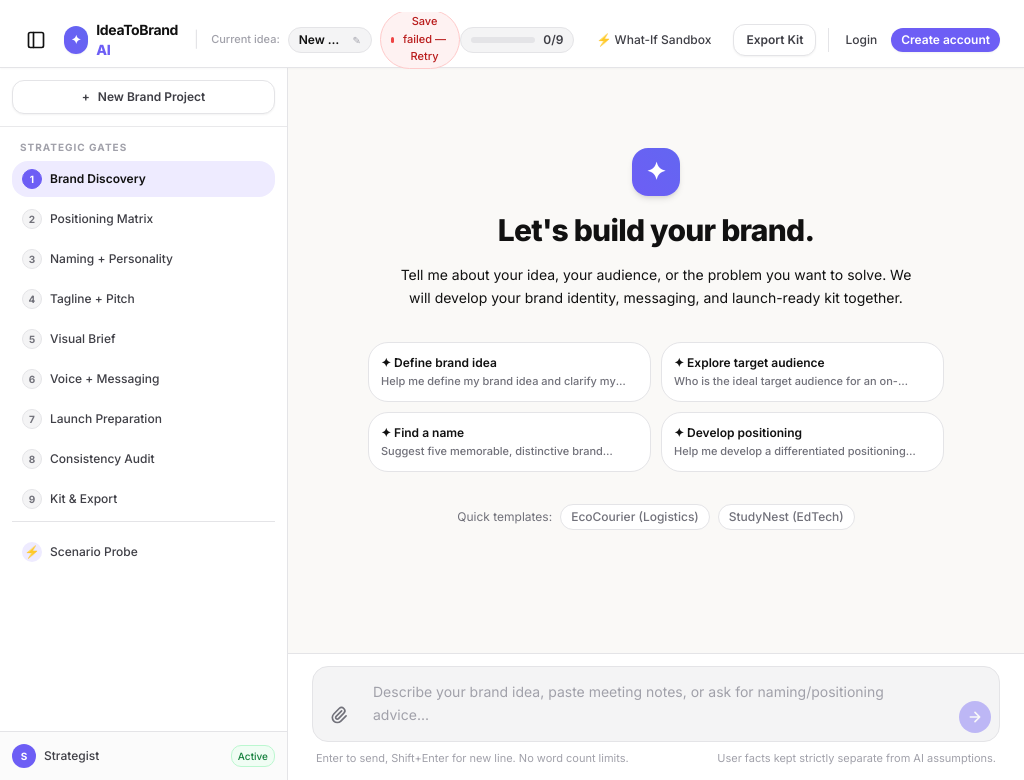
Test case: Frontend Integration Fix — Chat UX & Idea Submission › 10 & 11. User message renders and FOIL acknowledges with "What I understand" and Start Discovery CTA
Replace the text in the text box named "chat input message" with "Healthy millet-based snacks for university campuses and co-working hubs.". click: (658, 704)
box: [365, 675, 951, 733]
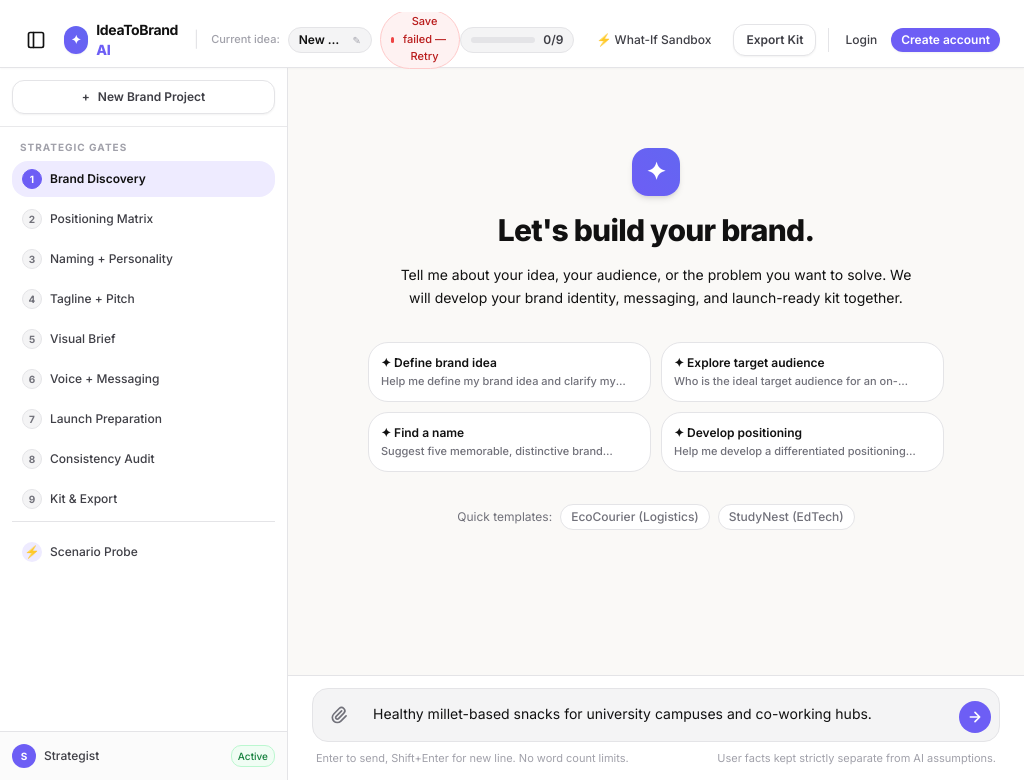
Click the button named "send message". click: click(975, 717)
box: [959, 701, 991, 733]
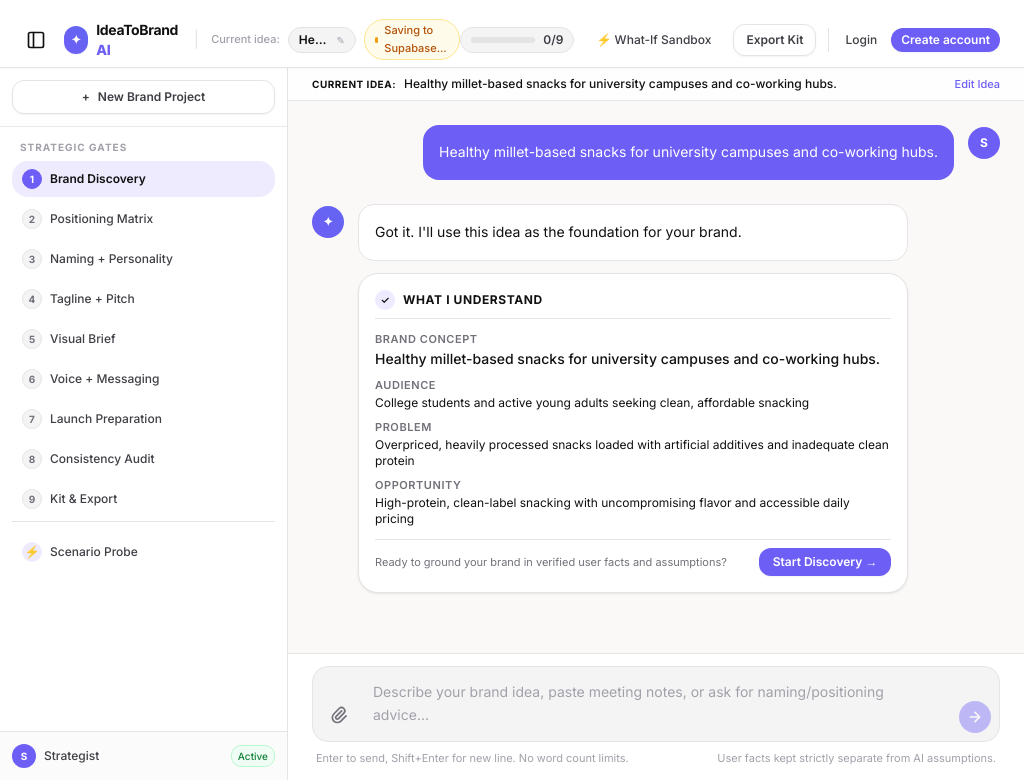
Now the text "Got it. I'll use this idea as the foundation for your brand." is shown, box [375, 223, 742, 240]
Now the text "What I understand" is shown, box [403, 292, 543, 308]
Now the button "Start Discovery →" is shown, box [759, 548, 891, 576]
